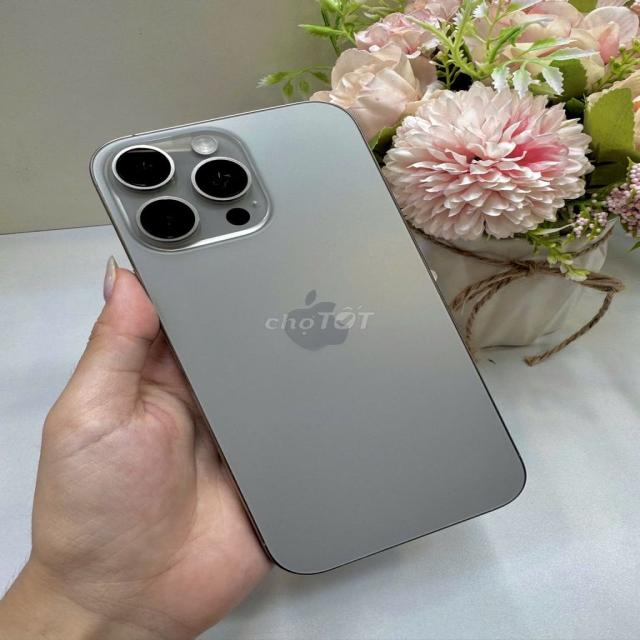gen_16: (92, 102, 524, 573)
